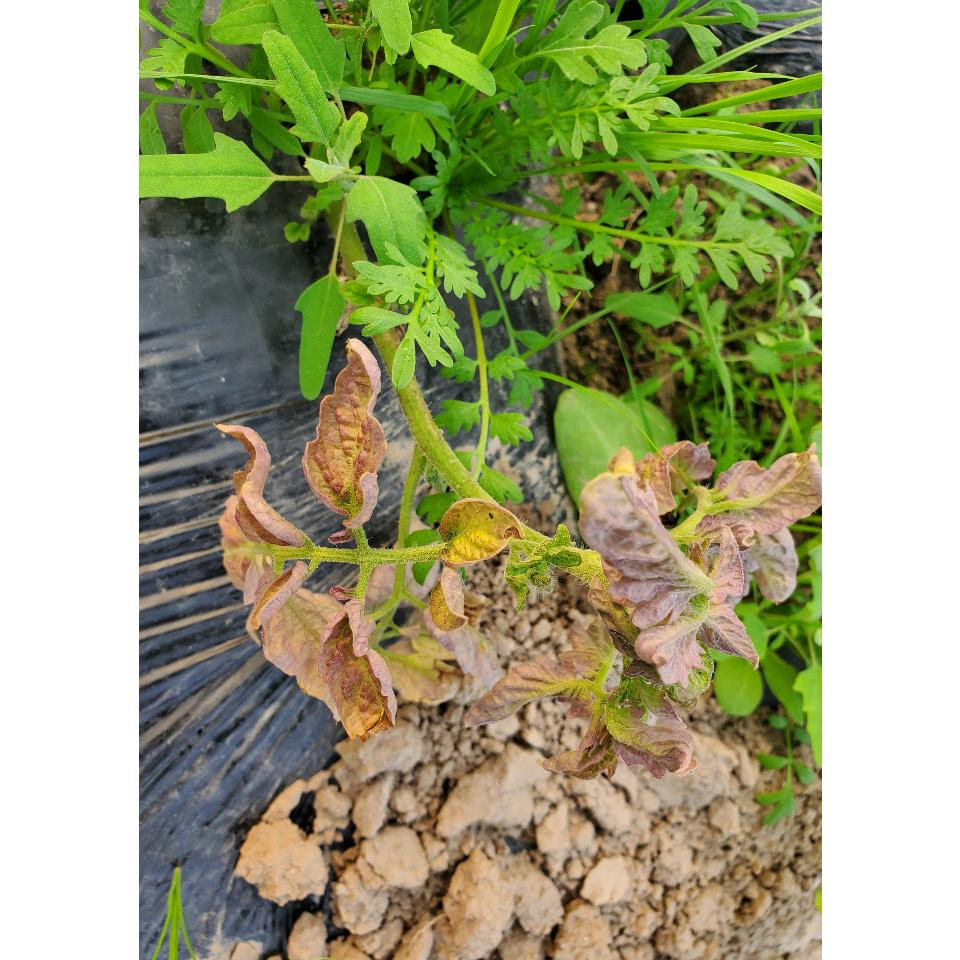tomato_yellow_leaf_curl_virus: (575, 470, 705, 616), (302, 341, 386, 537), (320, 600, 400, 744), (211, 424, 301, 546)
